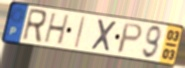9: (141, 24, 164, 61)
H: (42, 12, 72, 47)
I: (73, 15, 87, 50)
P: (115, 22, 145, 56)
R: (20, 7, 49, 45)
X: (90, 18, 119, 54)
